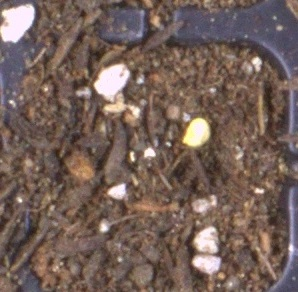chilli seed: (180, 117, 211, 148)
